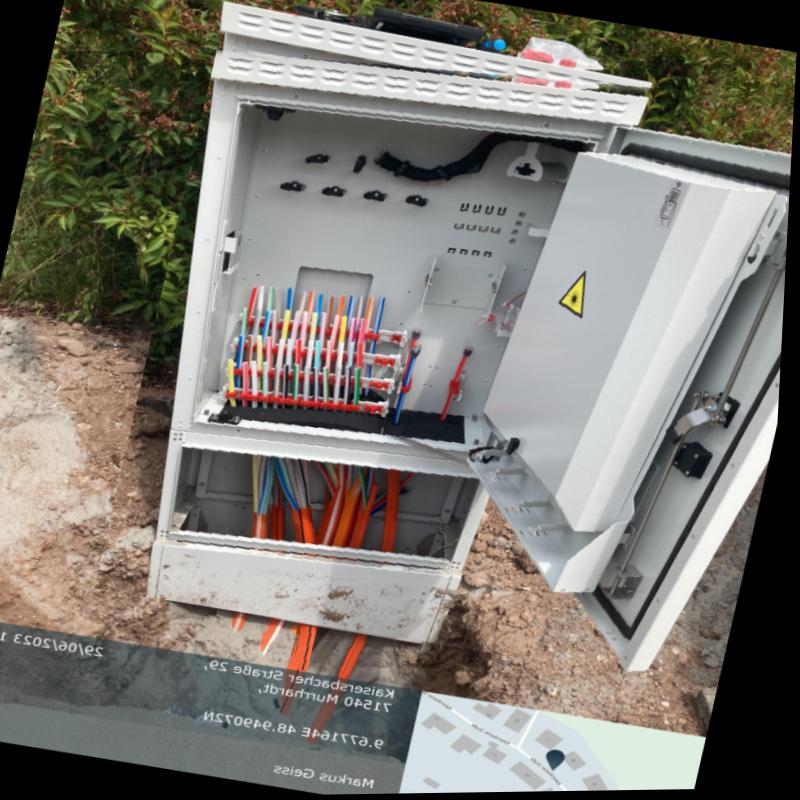NT-Gehause: (152, 41, 793, 672)
Orang-Speednetrohrchen: (299, 625, 324, 672), (346, 637, 373, 680)
